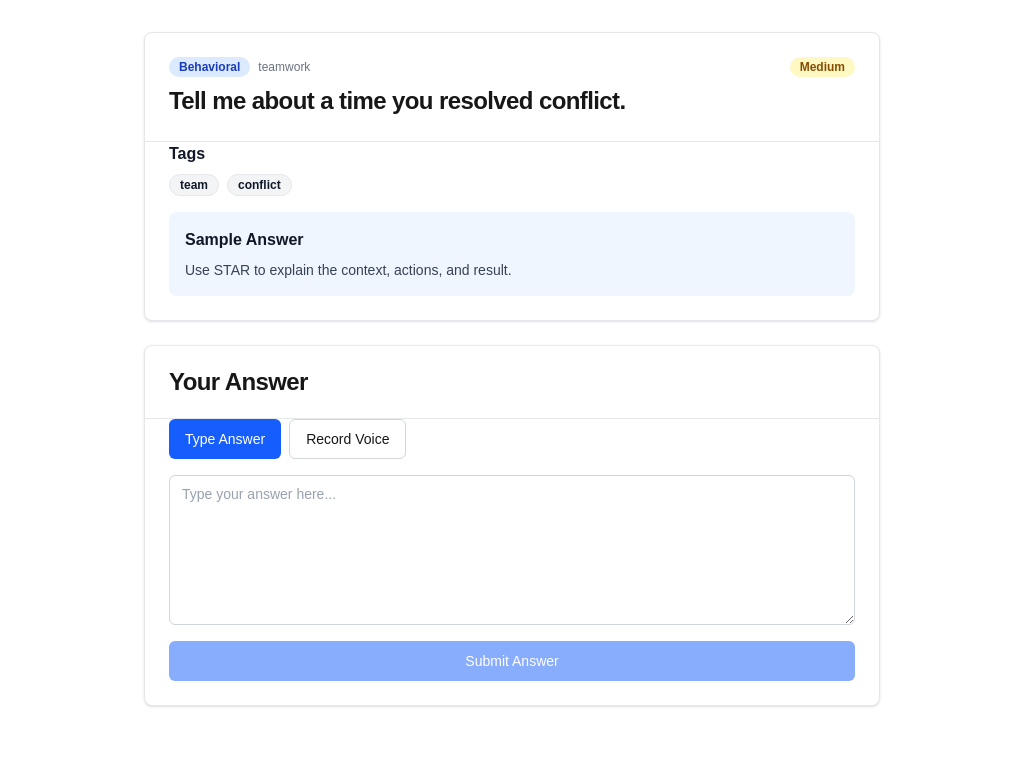
Test: page routes › loads a practice question and submits an answer
This screenshot has width=1024, height=768.
Expected: the heading "Tell me about a time you resolved conflict." is shown, [169,87,626,114]
Expected: the heading "Your Answer" is shown, [169,368,308,395]
Type "I used STAR to resolve the conflict." into the text box with placeholder "Type your answer here..." at [512, 550], box [169,475,855,625]
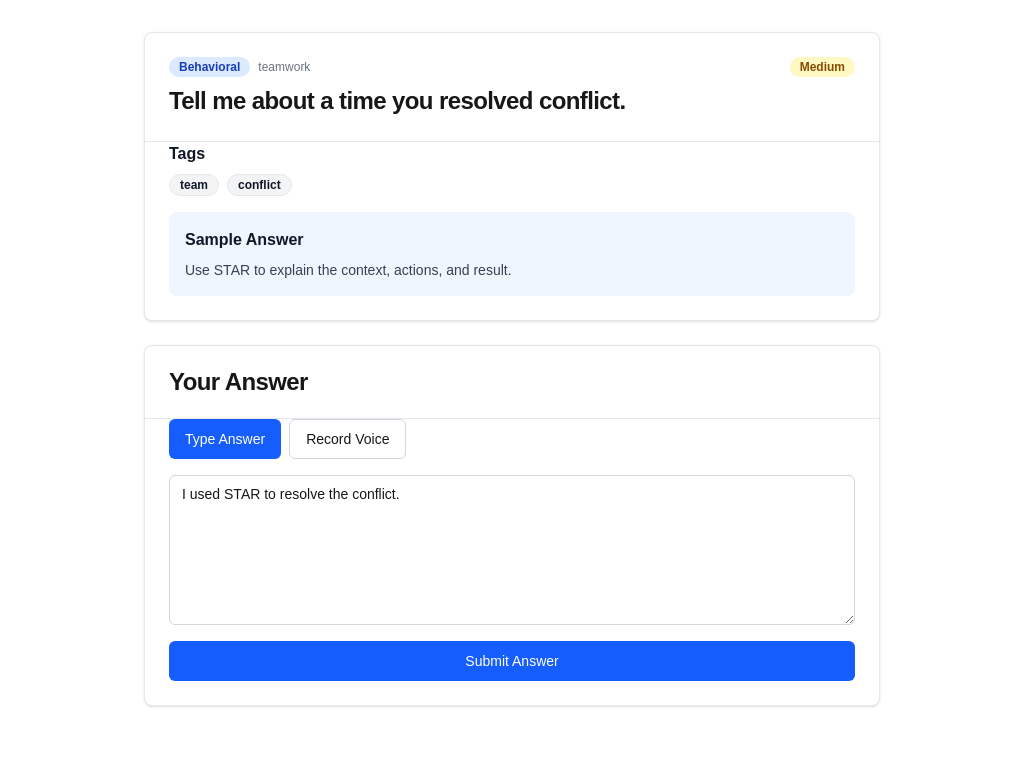
Click the button "Submit Answer" at [512, 661], box [169,641,855,681]
(page scrolled)
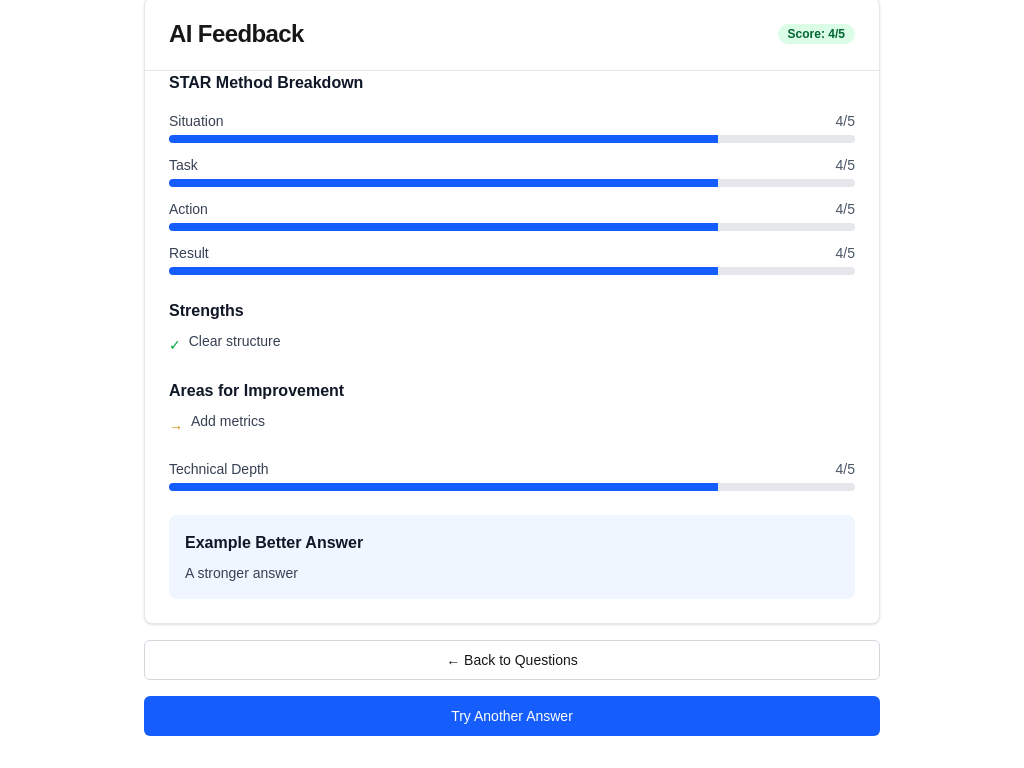
Expected: the text "A stronger answer" is shown, [185,565,298,581]
